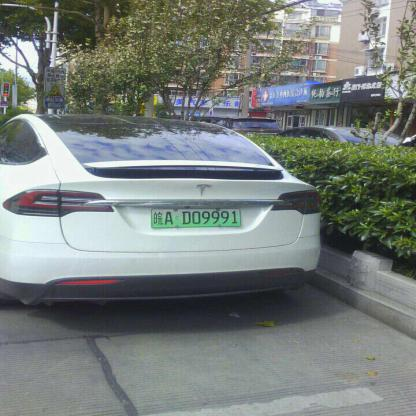lp: (151, 208, 241, 226)
